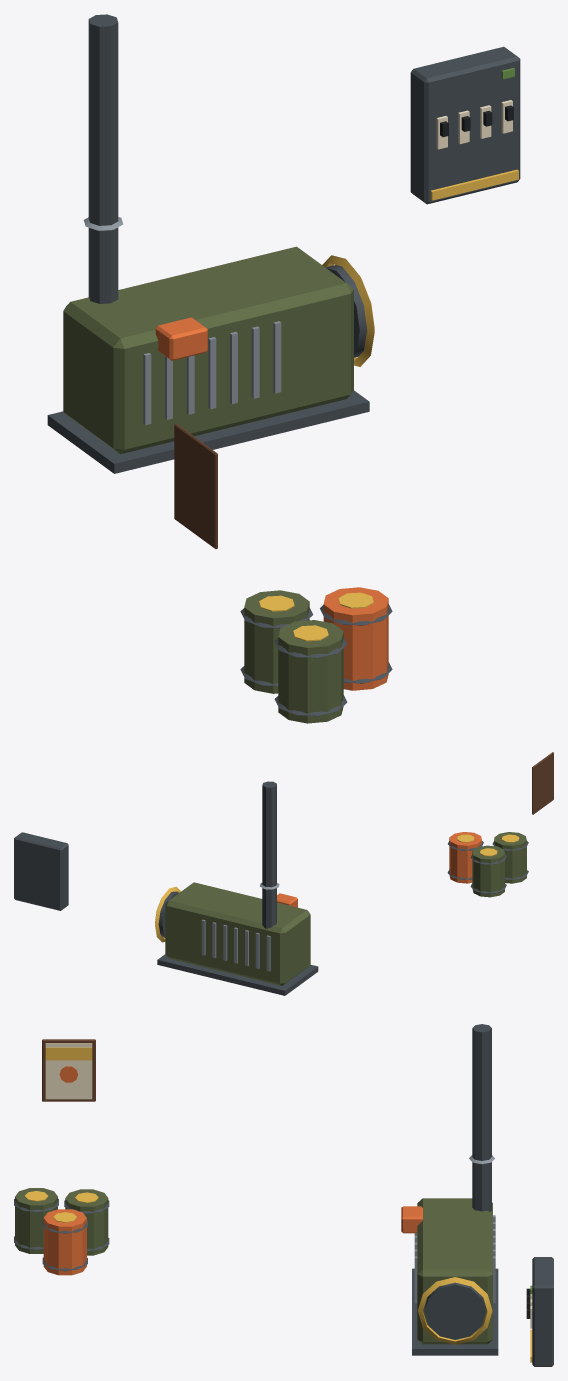
The model's file is Room_Generator_L1.fbx.
3 renders of one model, top to bottom at view 1: azimuth 30°, elevation 25°; view 2: azimuth 150°, elevation 25°; view 3: azimuth 270°, elevation 25°, orthographic. The views are drawn at different scales.
Visible parts, largest first — view 1: Engine1, Decor, Breaker1, Barrel3, Barrel2, Barrel1; view 2: Engine1, Decor, Breaker1, Barrel1, Barrel2, Barrel3; view 3: Decor, Engine1, Barrel2, Breaker1, Barrel3, Barrel1.
Boxes of the visible parts, left/top/right/bottom form: Engine1: left=63, top=246, right=353, bottom=454; Decor: left=47, top=14, right=518, bottom=716; Breaker1: left=410, top=46, right=520, bottom=204; Barrel3: left=278, top=620, right=343, bottom=723; Barrel2: left=323, top=587, right=388, bottom=690; Barrel1: left=244, top=590, right=309, bottom=693; Engine1: left=165, top=882, right=310, bottom=985; Decor: left=155, top=752, right=553, bottom=995; Breaker1: left=14, top=832, right=68, bottom=910; Barrel1: left=472, top=845, right=504, bottom=897; Barrel2: left=449, top=832, right=481, bottom=883; Barrel3: left=494, top=832, right=526, bottom=883; Decor: left=14, top=1024, right=532, bottom=1362; Engine1: left=417, top=1198, right=492, bottom=1344; Barrel2: left=43, top=1209, right=86, bottom=1275; Breaker1: left=532, top=1257, right=553, bottom=1366; Barrel3: left=15, top=1188, right=57, bottom=1253; Barrel1: left=65, top=1189, right=108, bottom=1255.
Size of the model in its own units: 28.5 by 16 by 30.06.
